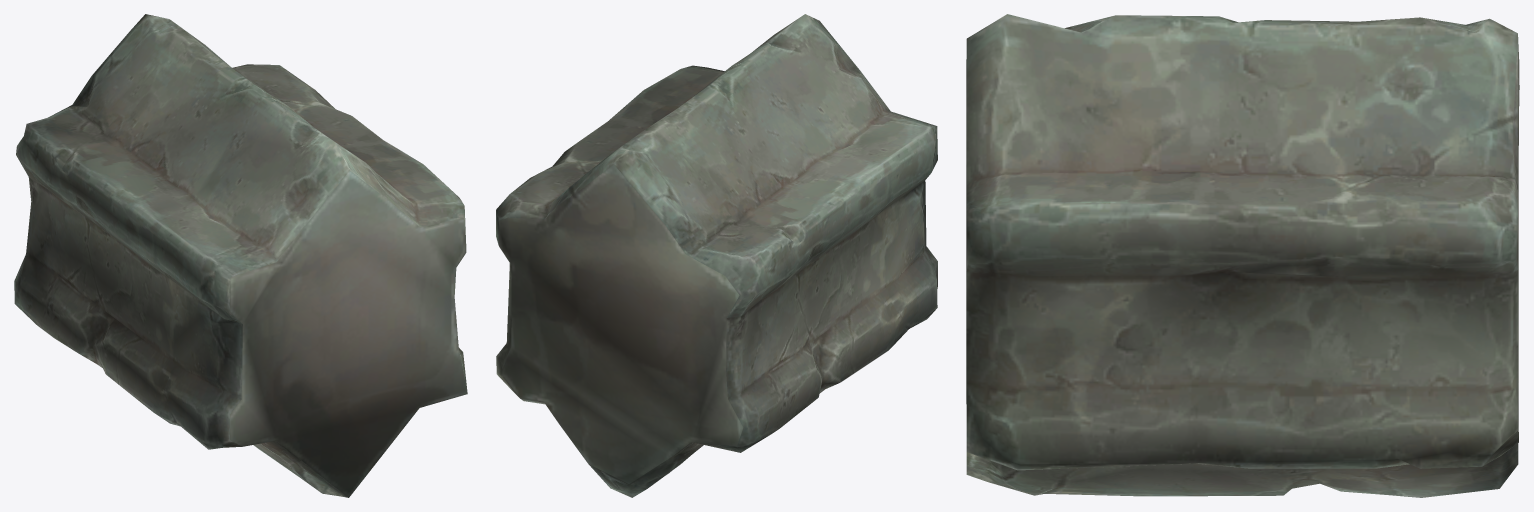
The model's file is Ruins_Pillar_4m_B.fbx.
The picture shows the model from 3 angles, left to right: view 1: azimuth 30°, elevation 25°; view 2: azimuth 150°, elevation 25°; view 3: azimuth 270°, elevation 25°; orthographic projection. The views are drawn at different scales.
Visible parts, largest first — view 1: Ruins_Pillar_4m_B; view 2: Ruins_Pillar_4m_B; view 3: Ruins_Pillar_4m_B.
Boxes of the visible parts, bbox=[...] form: Ruins_Pillar_4m_B: bbox=[14, 14, 467, 497]; Ruins_Pillar_4m_B: bbox=[496, 14, 937, 497]; Ruins_Pillar_4m_B: bbox=[966, 14, 1519, 497].
Size of the model in its own units: 300 by 387 by 404.
